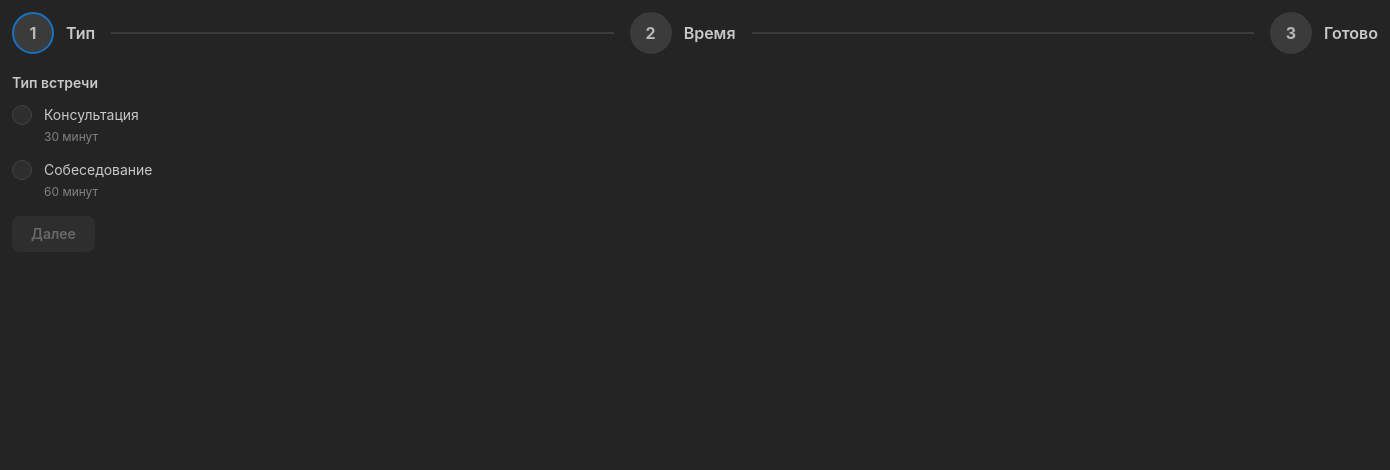
Scenario: гостевой вид › «Далее» недоступен без типа; после выбора открывается шаг «Время»
The image size is (1390, 470).
Expected: the button "Далее" is disabled, left=12, top=216, right=95, bottom=252
Click the radio button labelled "Консультация".
click(22, 115)  # box left=12, top=105, right=32, bottom=125
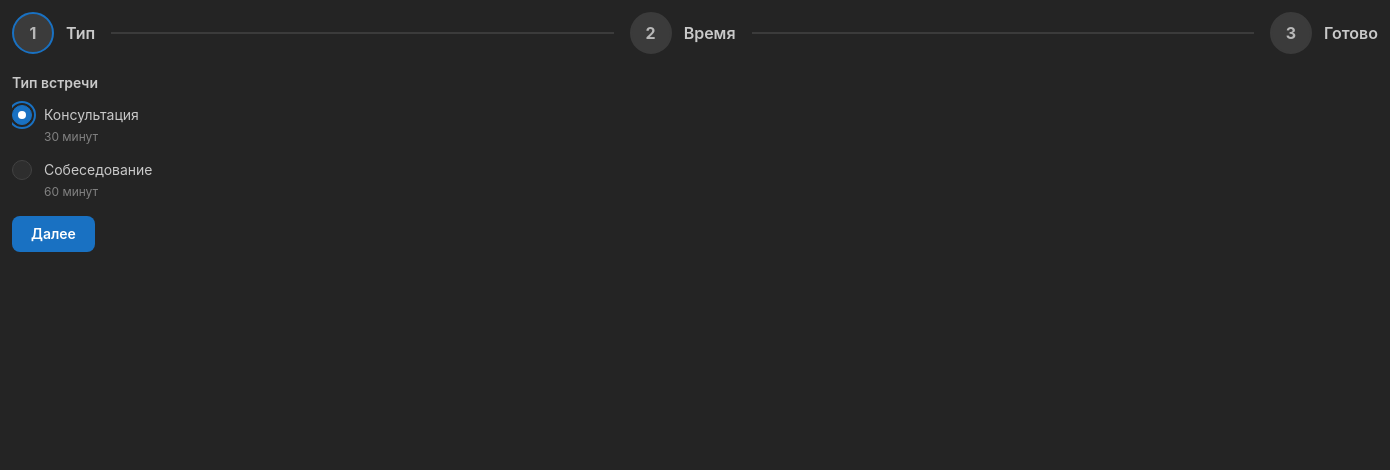
Click the button "Далее".
click(53, 234)  # box left=12, top=216, right=95, bottom=252
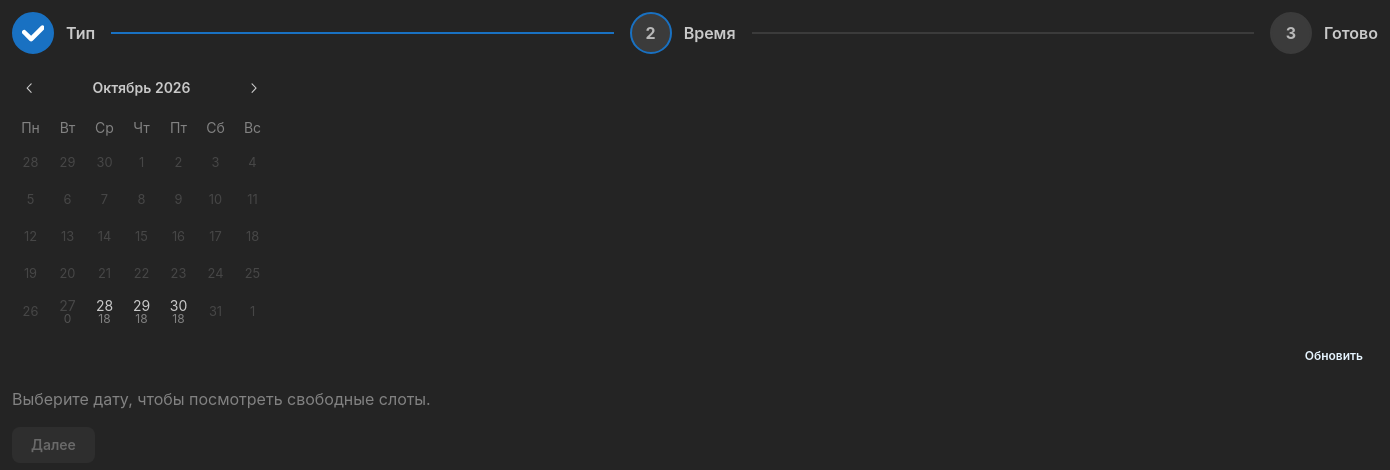
Expected: the text "Выберите дату, чтобы посмотреть свободные слоты." is shown, left=12, top=389, right=431, bottom=409
